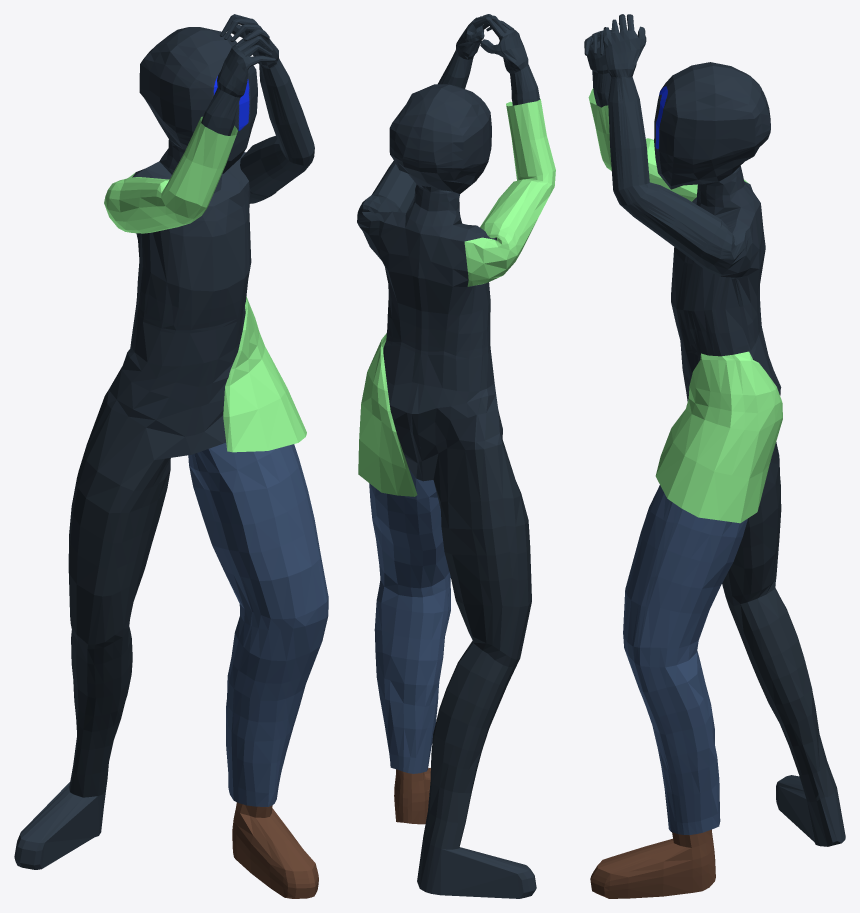
The model's file is Mar_Attack_000008.obj.
The picture shows the model from 3 angles, left to right: view 1: azimuth 30°, elevation 25°; view 2: azimuth 150°, elevation 25°; view 3: azimuth 270°, elevation 25°; orthographic projection. The views are drawn at different scales.
Parts seen in each view (by area): view 1: Cube.000_Cube.001; view 2: Cube.000_Cube.001; view 3: Cube.000_Cube.001.
Part boxes in pixels (x1,y1,x2,y2): Cube.000_Cube.001: [14, 14, 328, 898]; Cube.000_Cube.001: [357, 14, 555, 898]; Cube.000_Cube.001: [584, 14, 845, 898].
Bounding box in the file's own units: 1.18 × 4.09 × 1.14.
